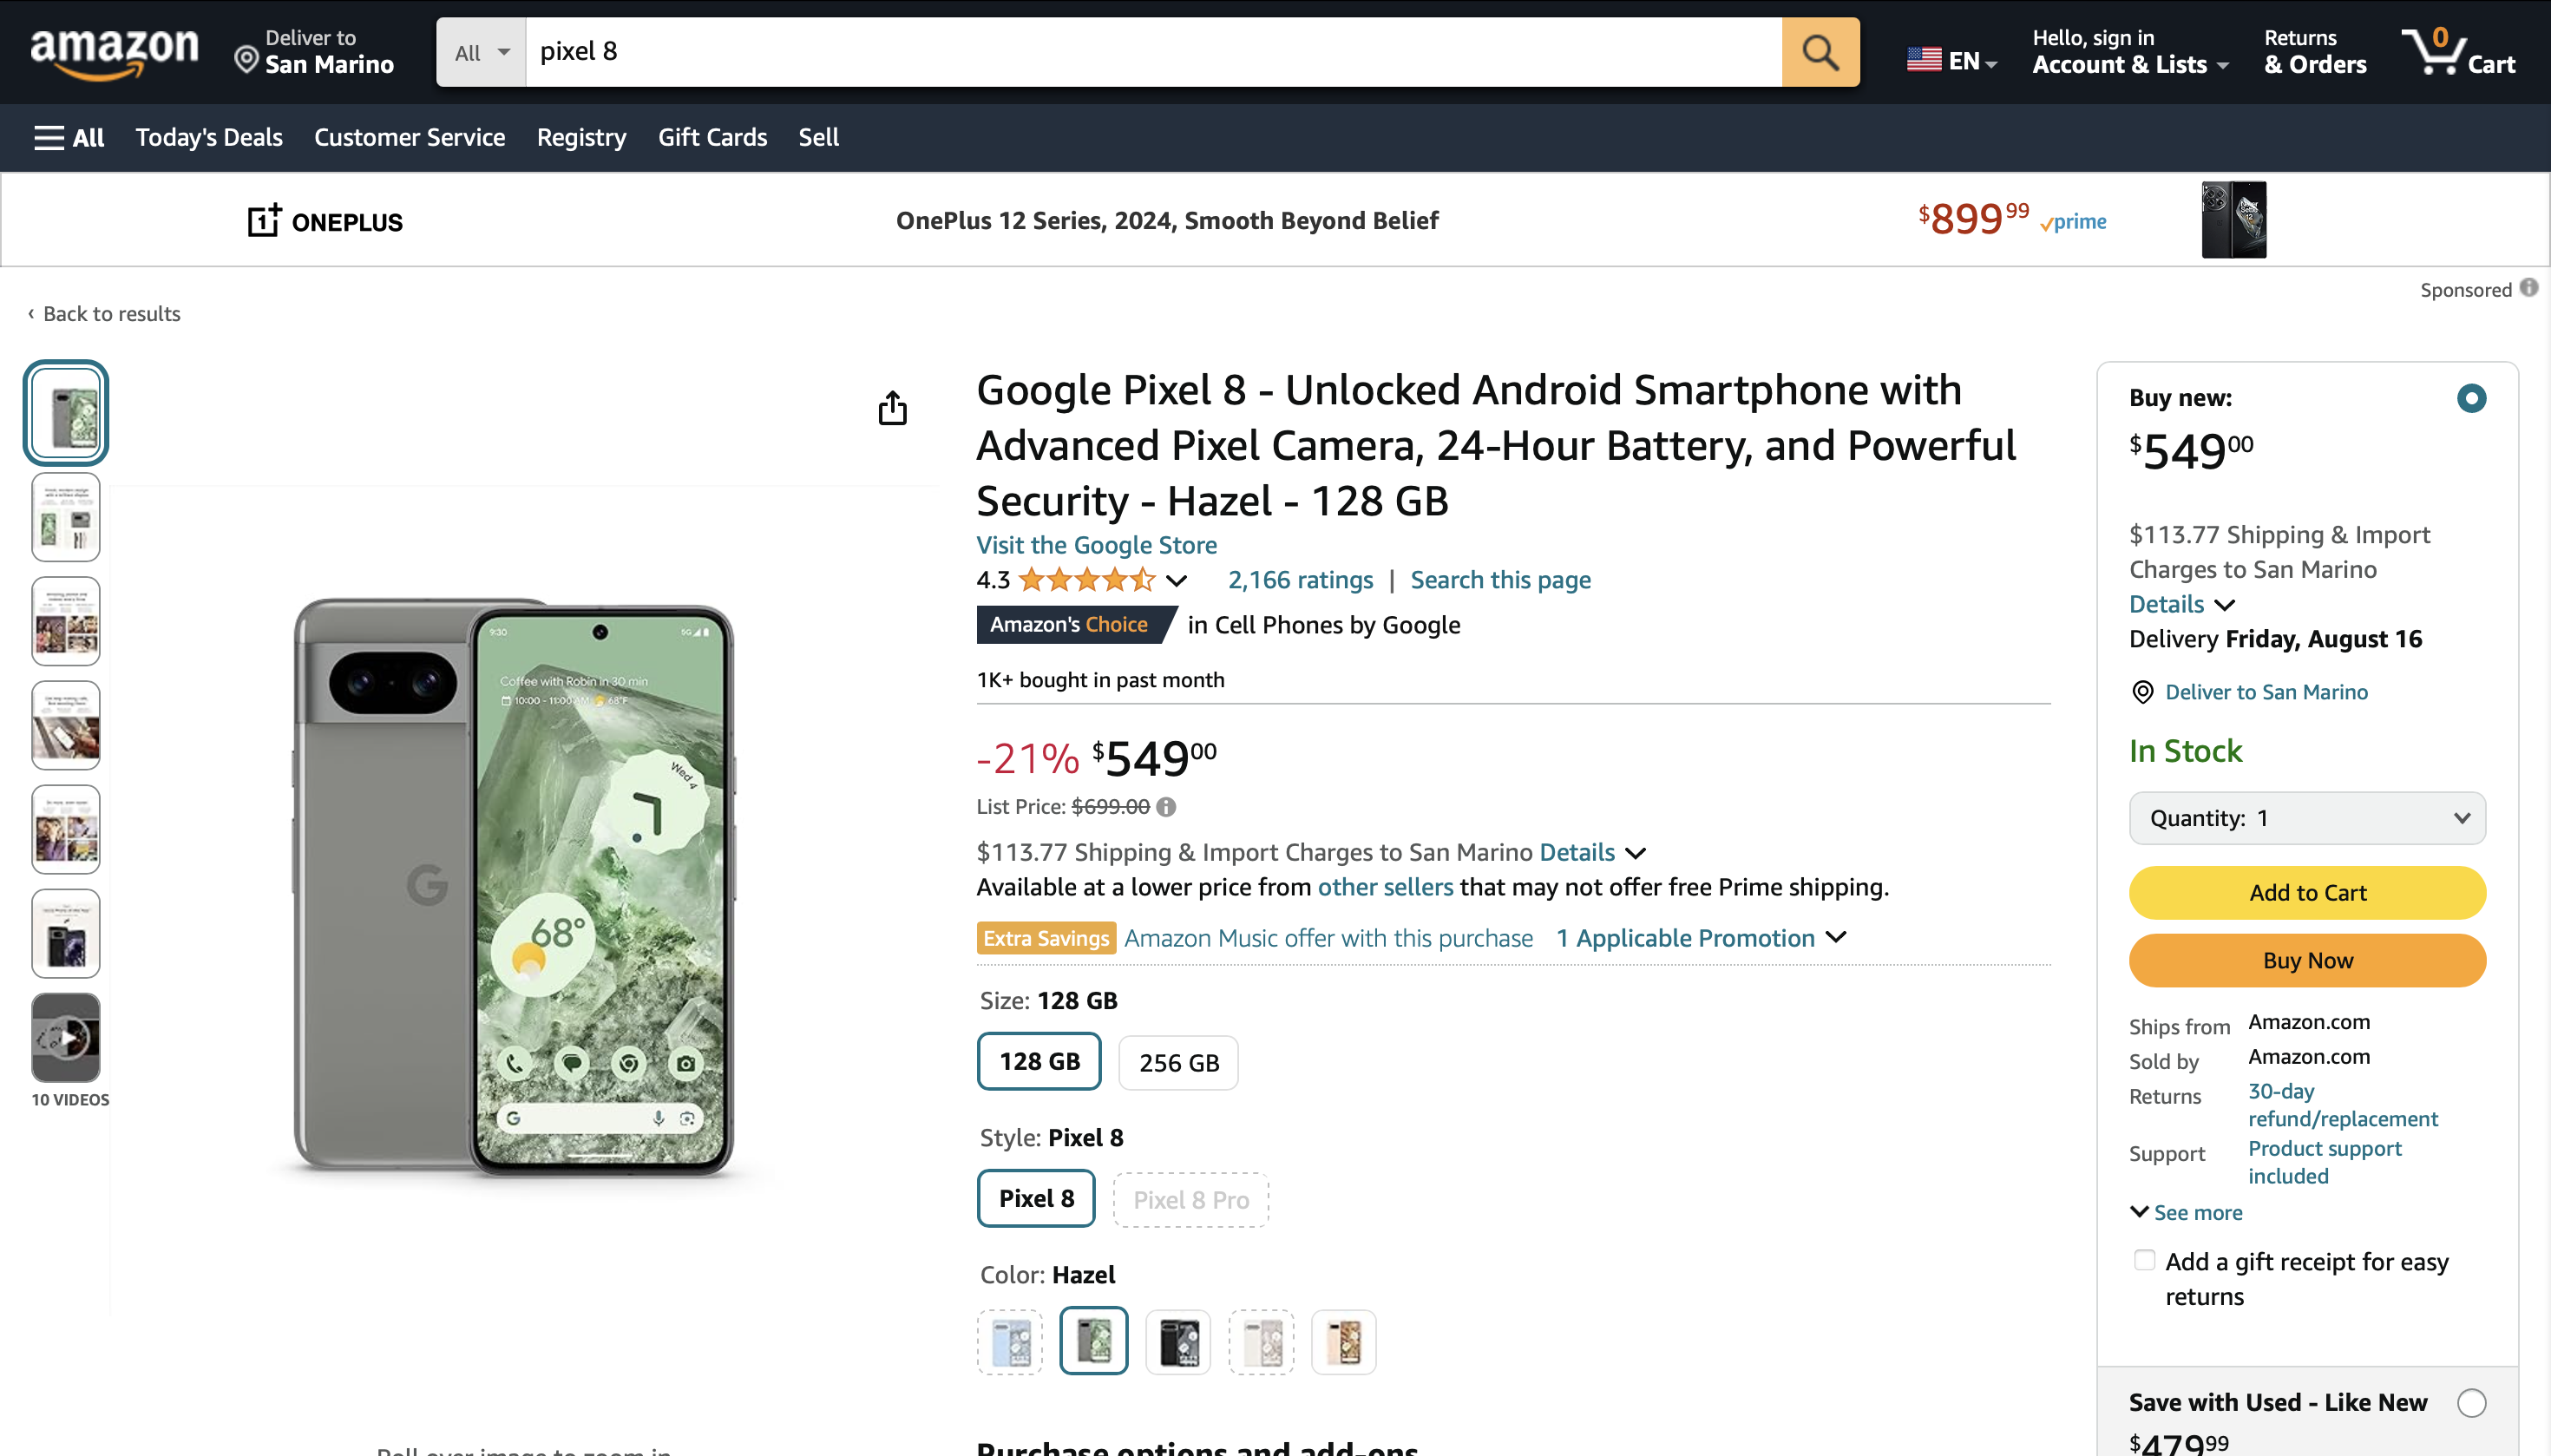add_to_cart_button: (2116, 860, 2495, 920)
buy_button: (2123, 930, 2497, 993)
quantity_drop_down: (2118, 787, 2495, 853)
